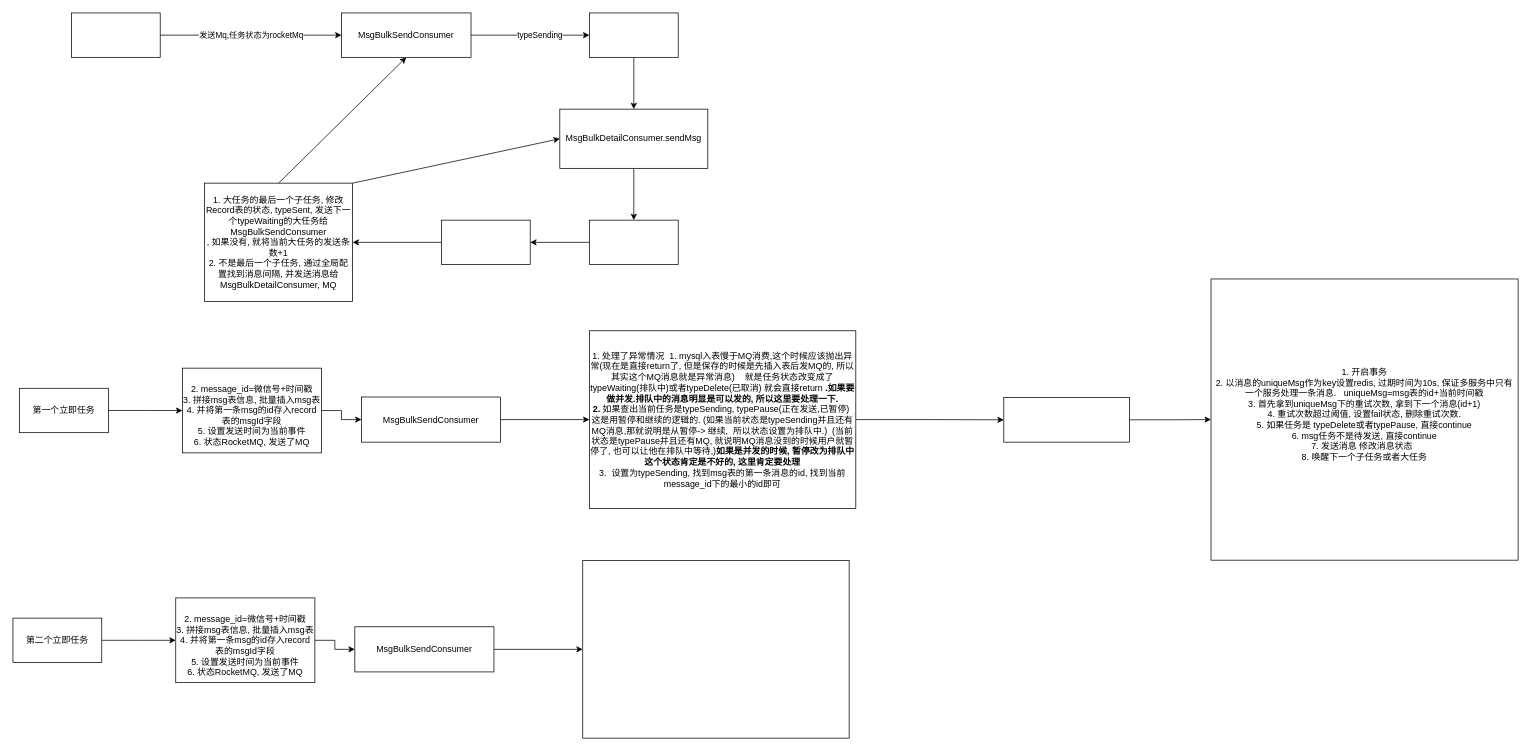
Some shapes in this 1531 by 751 pixel diagram are drawn without their labels. The shapes that lost their labels are listed below. From the top down, each one's centre as x and y in pixels, then its label:
At (115,34): "保存群发任务".
At (633,34): "发送大任务的一条子任务到MQ".
At (485,242): "发送下一条消息".
At (633,242): "更新msg表的状态".
At (1066,419): "MsgBulkDetailConsumer".
At (715,649): "由于当前wxId已经有任务在typeSending,直接return了.".
